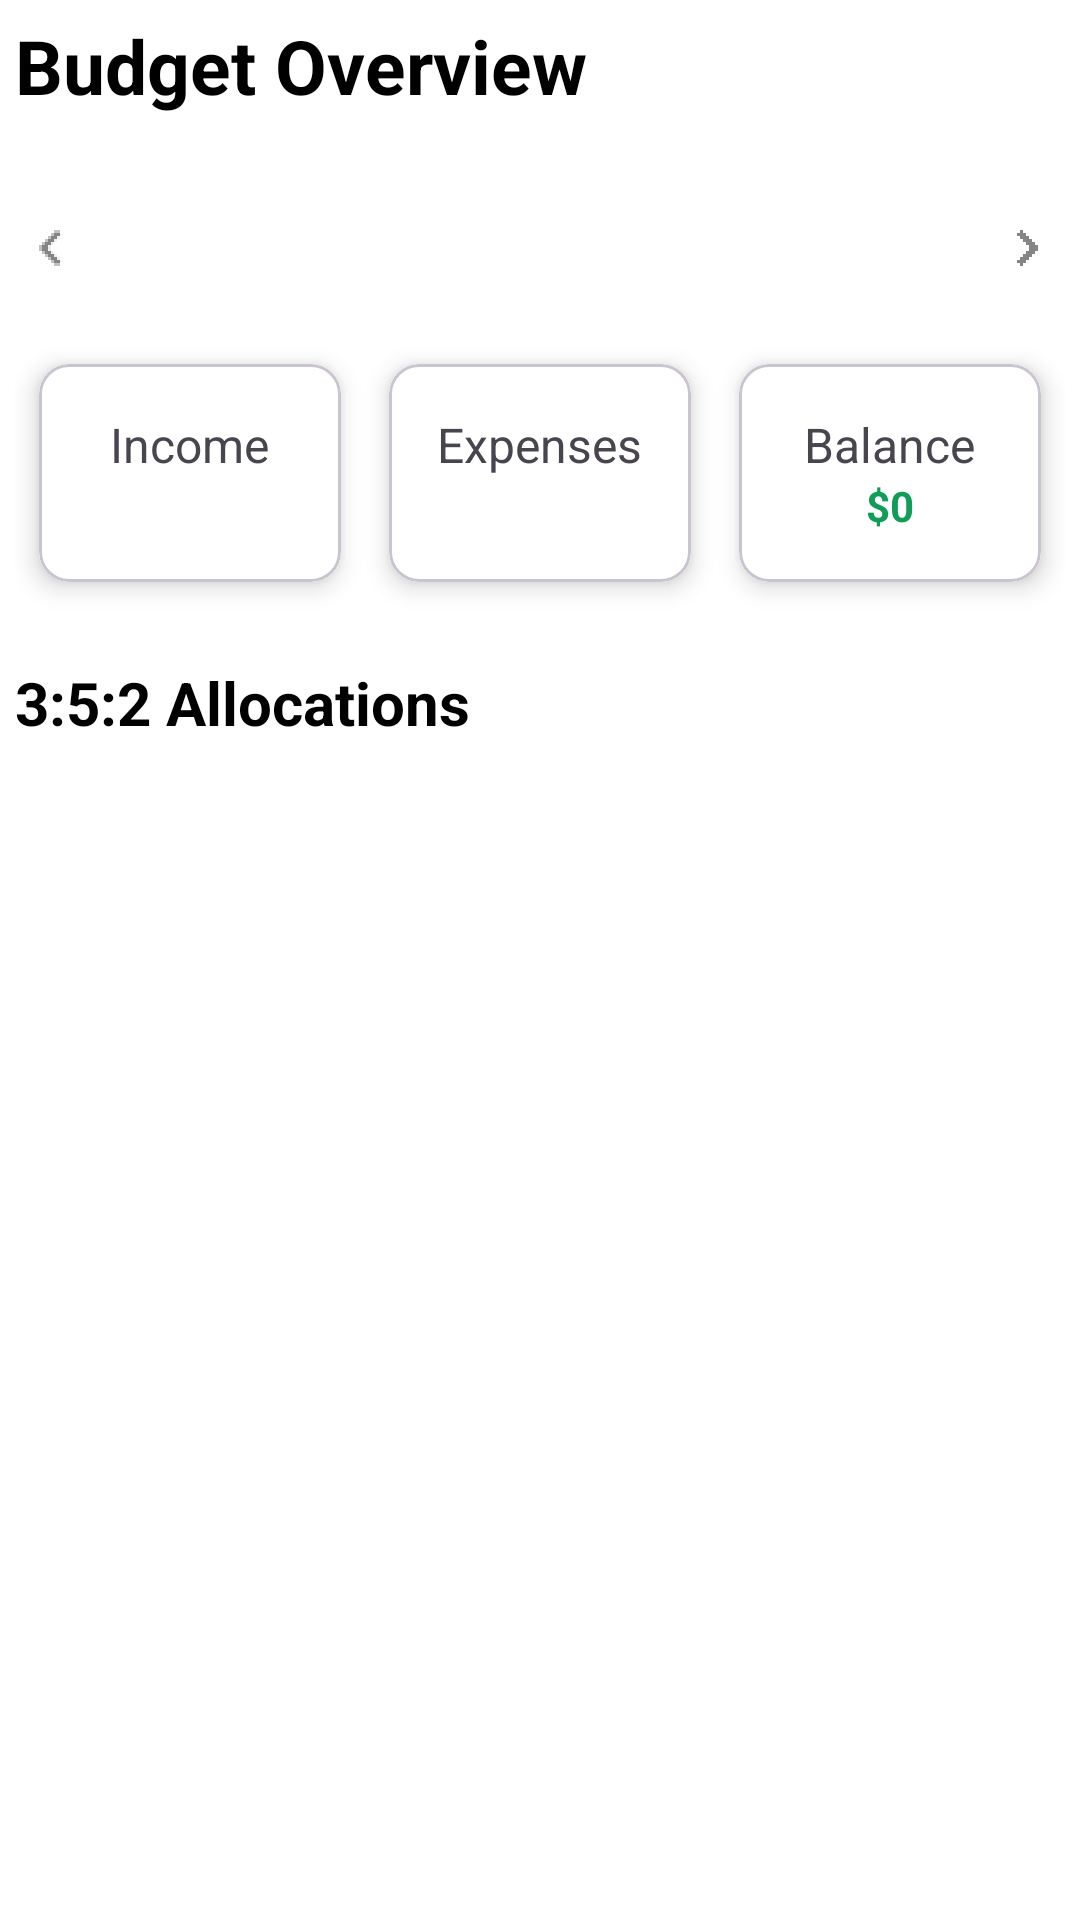

Named icons in this screenshot (1080px x 1920px) and their centers, point (x, y):
arrow left: point (49, 248)
arrow right: point (1027, 248)
